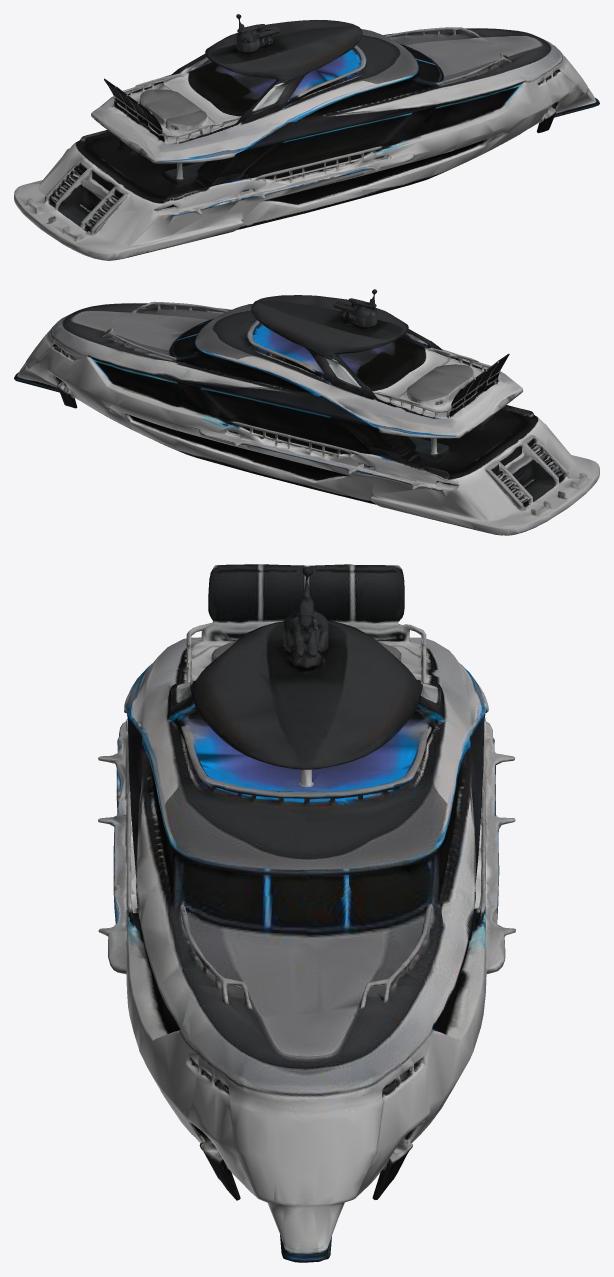
The model's file is yacht-two.glb.
3 views of the same model, one above another, from view 1: azimuth 30°, elevation 25°; view 2: azimuth 150°, elevation 25°; view 3: azimuth 270°, elevation 25° (orthographic). The views are drawn at different scales.
Parts seen in each view (by area): view 1: tripo_node_6b43f708-1c90-4d08-9b97-2a2c45195c32; view 2: tripo_node_6b43f708-1c90-4d08-9b97-2a2c45195c32; view 3: tripo_node_6b43f708-1c90-4d08-9b97-2a2c45195c32.
Part boxes in pixels (<box>): tripo_node_6b43f708-1c90-4d08-9b97-2a2c45195c32: <box>14,14,599,260</box>; tripo_node_6b43f708-1c90-4d08-9b97-2a2c45195c32: <box>14,289,599,535</box>; tripo_node_6b43f708-1c90-4d08-9b97-2a2c45195c32: <box>98,564,515,1262</box>.
Bounding box in the file's own units: 0.9997 × 0.3004 × 0.3266.
1 material, 1 textured.
